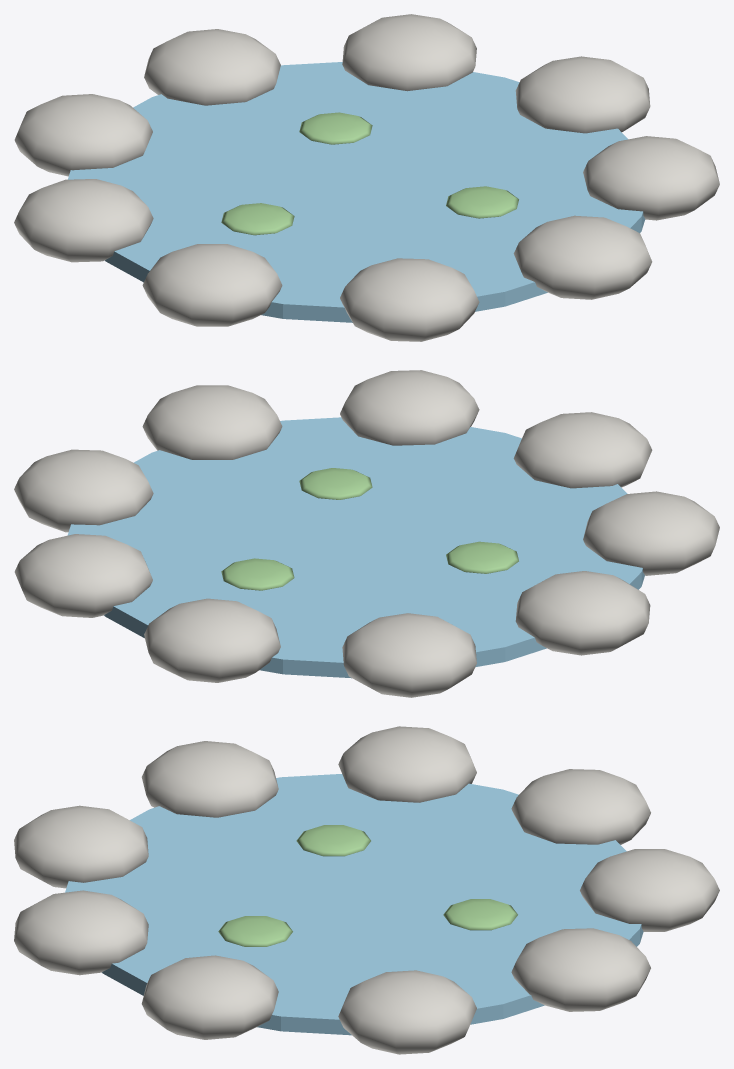
File: pond.fbx
3 renders of one model, top to bottom at view 1: azimuth 30°, elevation 25°; view 2: azimuth 150°, elevation 25°; view 3: azimuth 270°, elevation 25°, orthographic.
Parts seen in each view (by area): view 1: EN_pond; view 2: EN_pond; view 3: EN_pond.
Part boxes in pixels (x1,y1,x2,y2): EN_pond: (14, 14, 719, 341); EN_pond: (14, 370, 719, 697); EN_pond: (14, 726, 719, 1054).
Size of the model in its own units: 305 by 28.6 by 301.
